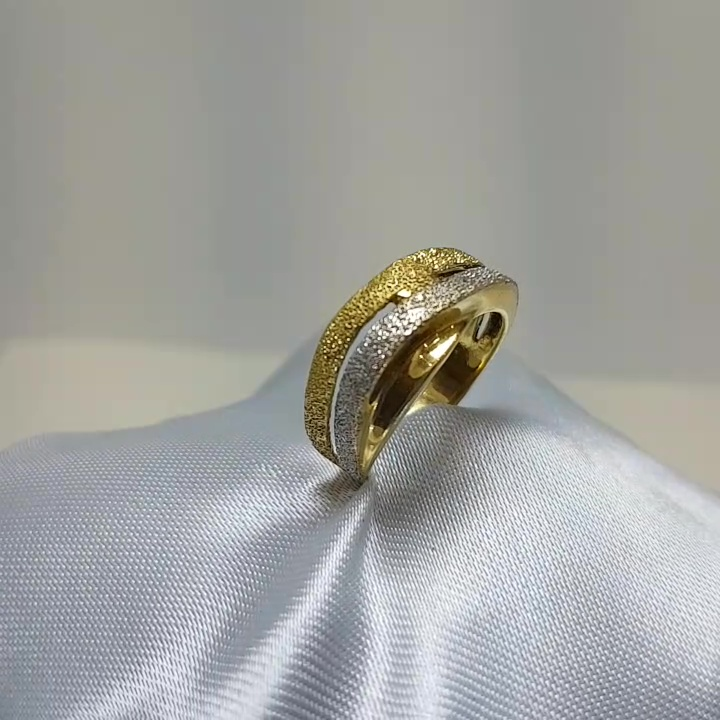Ring 5: (264, 238, 539, 511)
